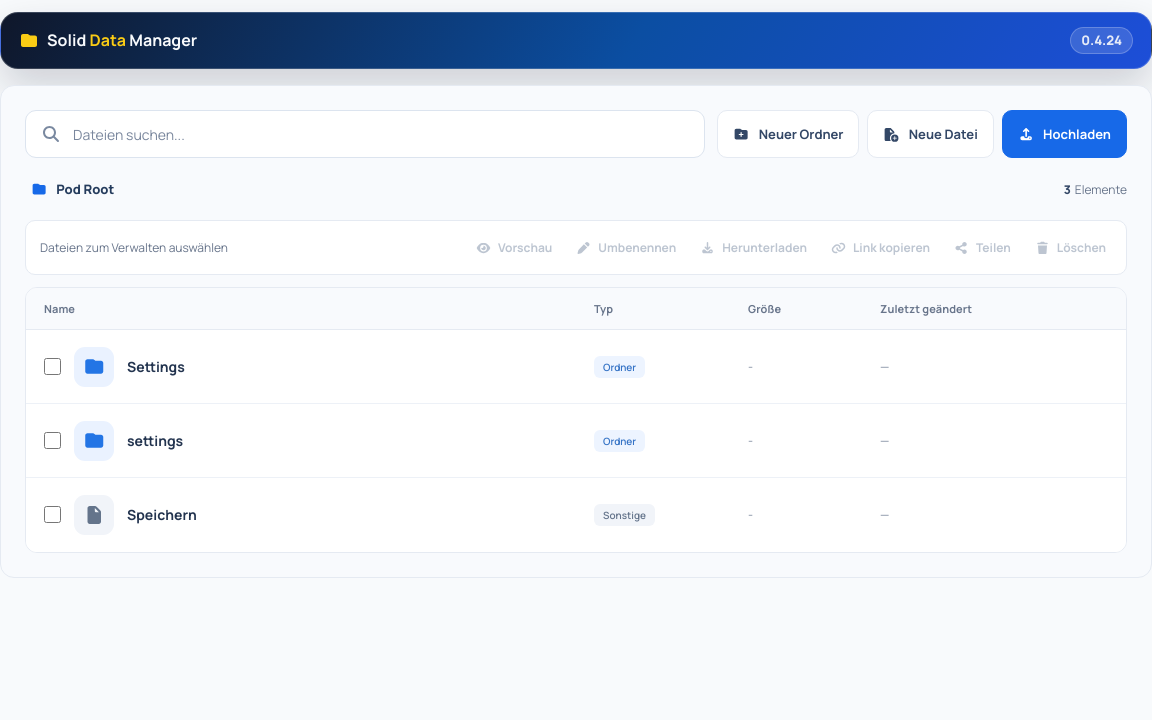
Test: keeps exact folder and file names when changing language and navigating
The width and height of the screenshot is (1152, 720).
expect the button "settings" is shown: met, box [127,429,183,452]
expect the text "Speichern" is shown: met, box [127,505,197,524]
Click the button "Settings" at [156, 367], box [127,355,185,378]
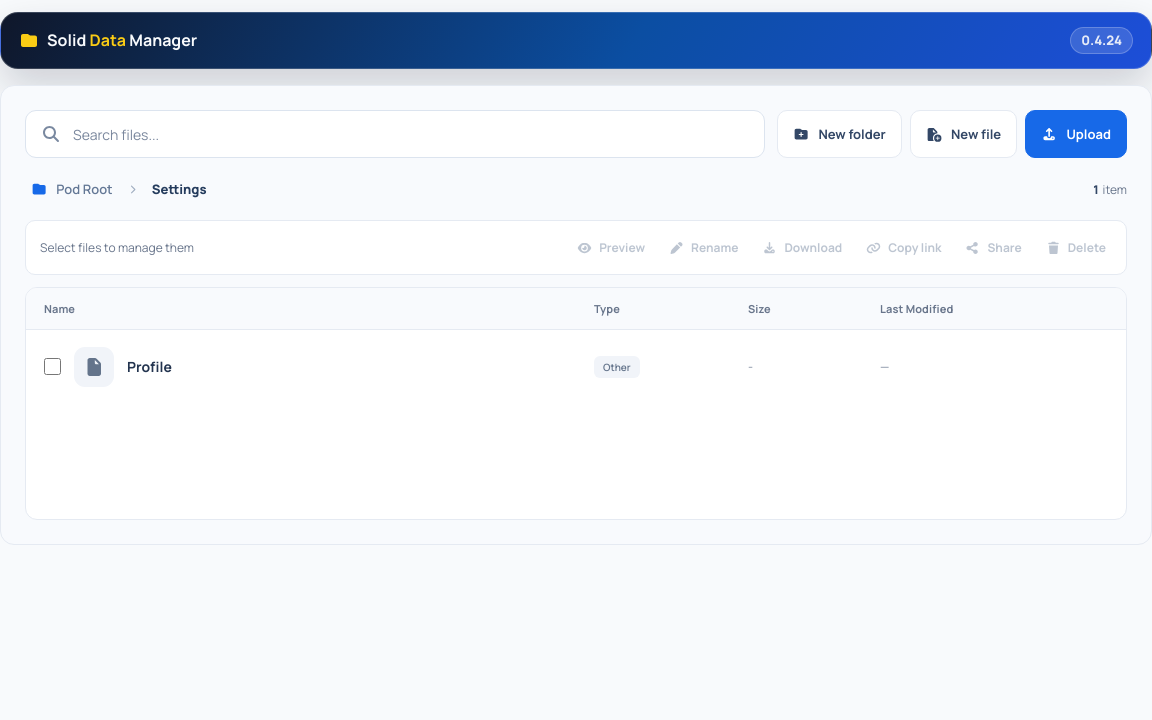
expect the text "Profile" is shown: met, box [127,357,172,376]
expect the navigation bar with class "crumb" reads "Pod Root Settings": met, box [25,169,212,209]
